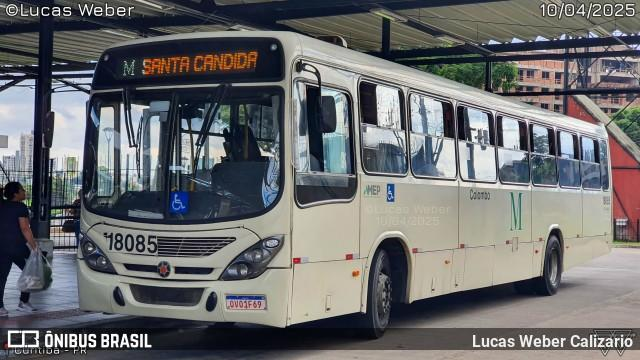SANTA CANDIDA: (137, 49, 262, 78)
